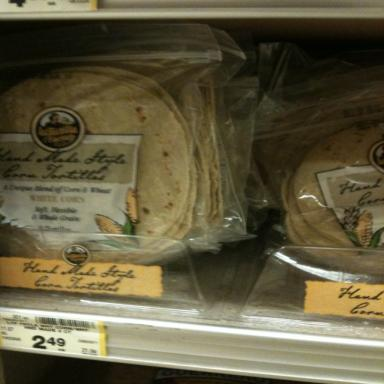plasticbag: (0, 38, 382, 282)
